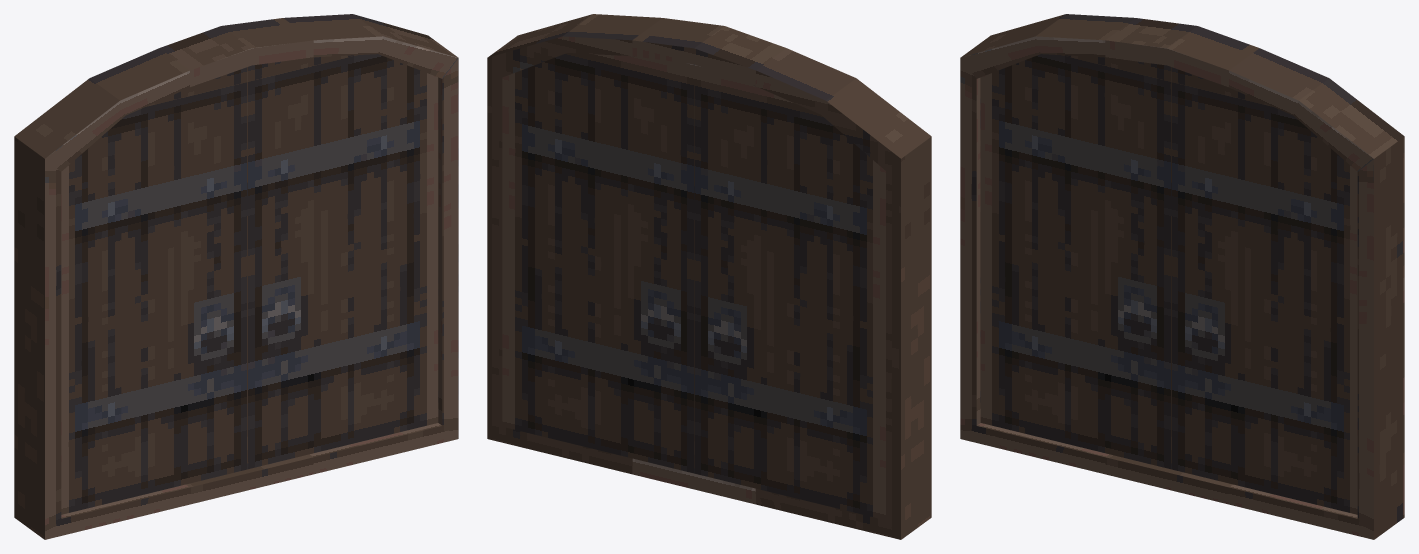
Rendered from door_wood_double.glb.
3 renders of one model, left to right at view 1: azimuth 30°, elevation 25°; view 2: azimuth 150°, elevation 25°; view 3: azimuth 330°, elevation 25°, orthographic.
Parts seen in each view (by area): view 1: door_wood_double; view 2: door_wood_double; view 3: door_wood_double.
Part boxes in pixels (x1,y1,x2,y2): door_wood_double: (14,14,458,539); door_wood_double: (487,14,931,539); door_wood_double: (960,14,1404,539).
Size of the model in its own units: 2.81 by 2.87 by 0.3606.
1 material, 1 textured.
